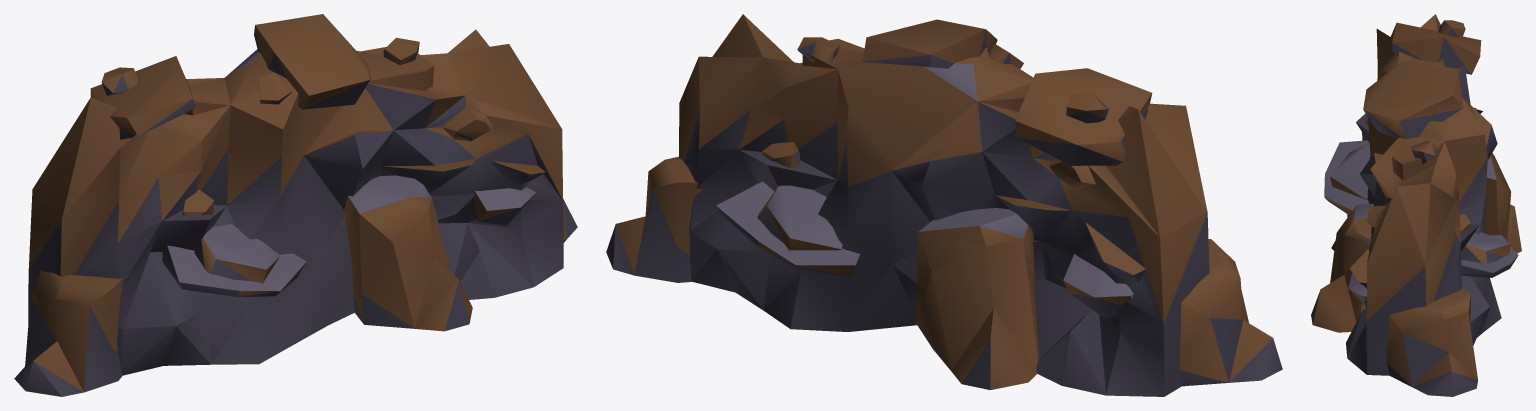
3 renders of one model, left to right at view 1: azimuth 30°, elevation 25°; view 2: azimuth 150°, elevation 25°; view 3: azimuth 270°, elevation 25°, orthographic. The views are drawn at different scales.
Visible parts, largest first — view 1: model; view 2: model; view 3: model.
Part boxes in pixels (x1,y1,x2,y2): model: (14, 14, 577, 396); model: (606, 14, 1282, 396); model: (1311, 14, 1521, 396).
Bounding box in the file's own units: 5.69 × 2.45 × 2.23.
